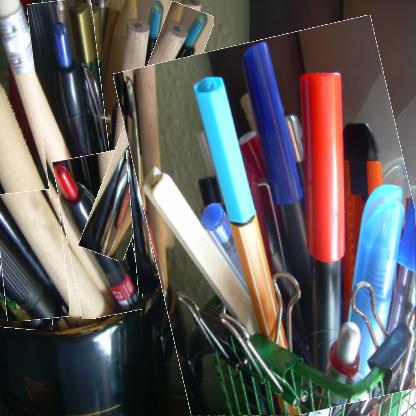Pen: (133, 27, 415, 415), (101, 1, 192, 263), (33, 0, 109, 198), (60, 153, 137, 318), (0, 190, 67, 322), (0, 225, 59, 331), (129, 149, 162, 294)
